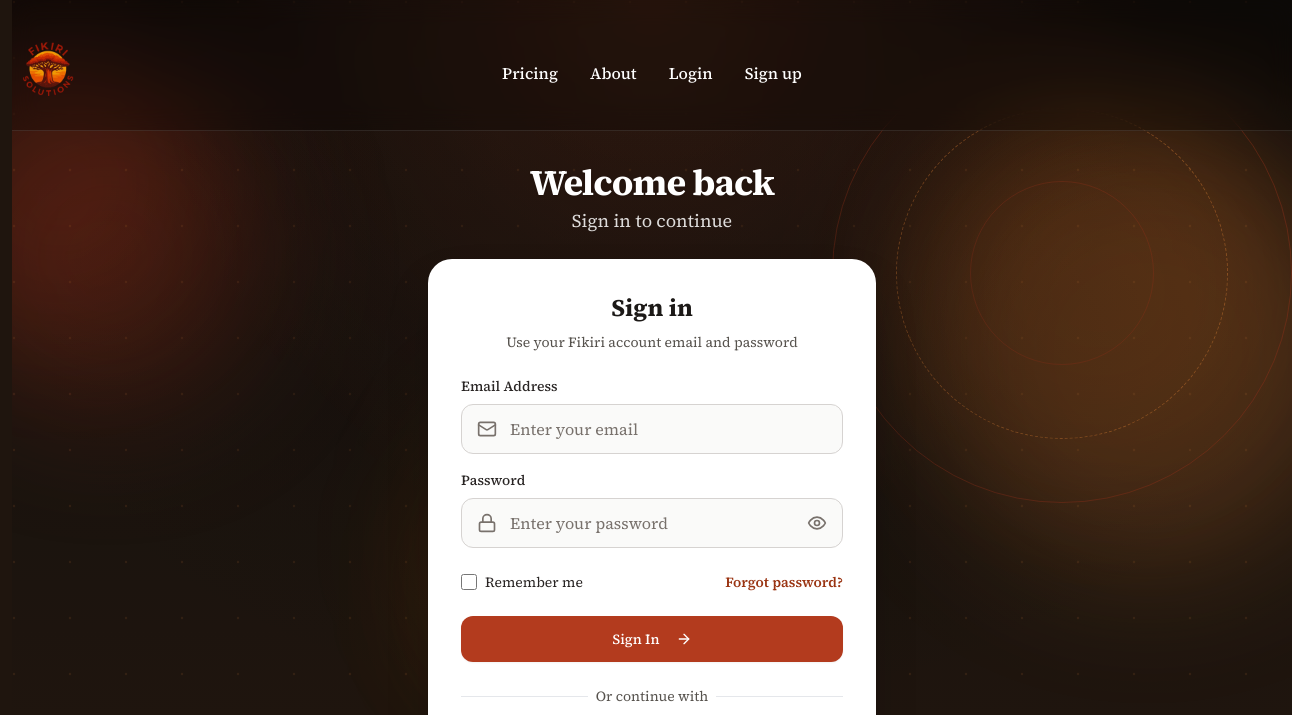
Test: Login Component › should validate email format
The width and height of the screenshot is (1292, 715).
In the field labelled "Email Address": (652, 429) [461, 404, 843, 454], type "invalid-email"
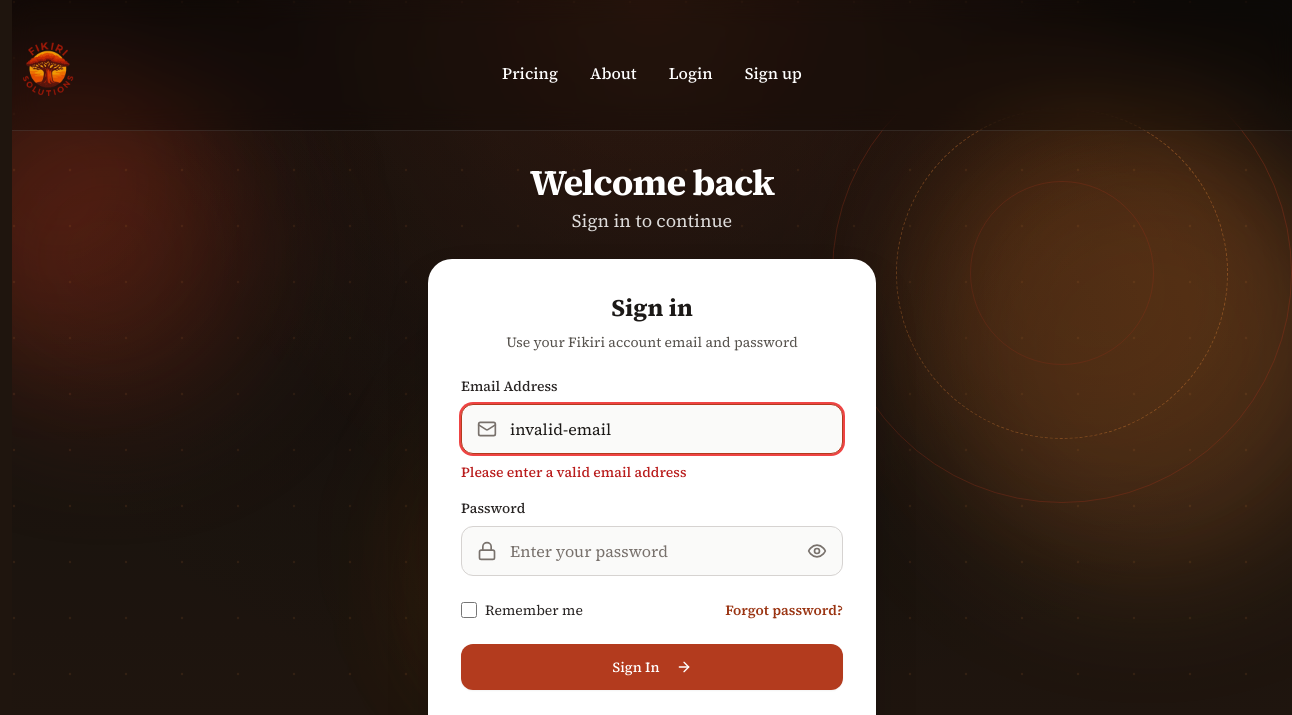
Result: the text "Please enter a valid email address" is shown at [461, 462, 686, 482]
